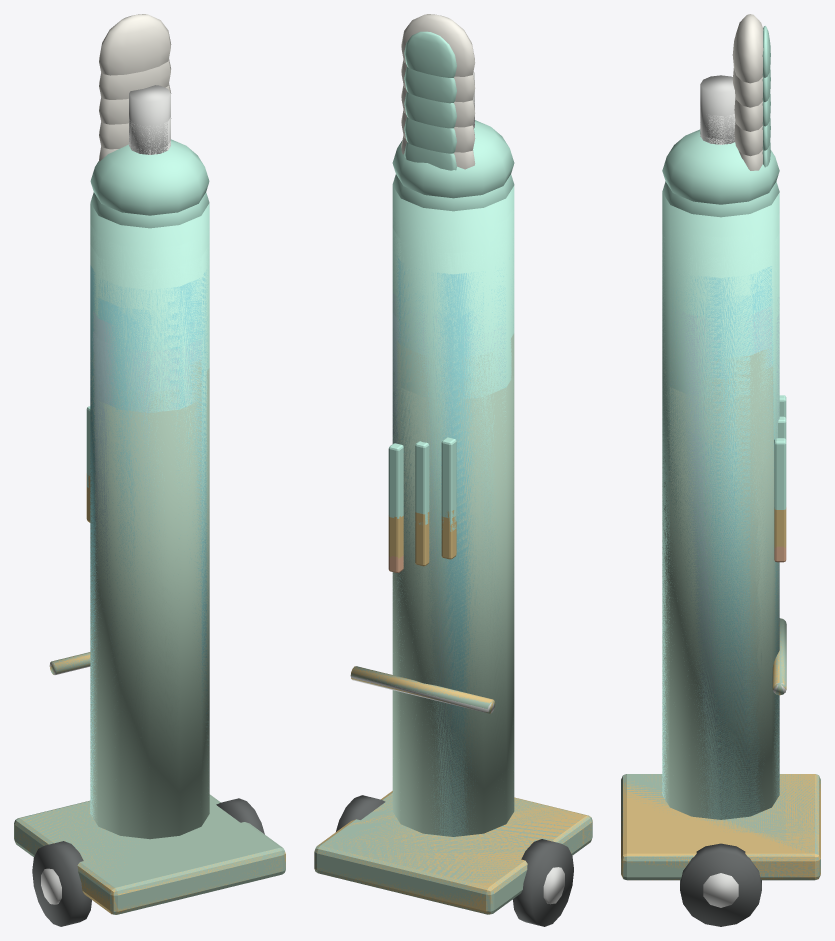
File: Gear09.fbx
3 views of the same model, side by side, from view 1: azimuth 30°, elevation 25°; view 2: azimuth 150°, elevation 25°; view 3: azimuth 270°, elevation 25° (orthographic). The views are drawn at different scales.
Parts seen in each view (by area): view 1: Gear09_V1_Sage, Gear09_V10_Glow, Gear09_V2_Sage, Gear09_V6_Aqua, Gear09_V9_Glow, Gear09_V7_Aqua, Gear09_V8_Glow, Gear09_V4_Blue, Gear09_V1_Tyre, Gear09_V10_Linen, Gear09_V10_Gold, Gear09_V5_Blue (+5 smaller); view 2: Gear09_V1_Sage, Gear09_V10_Glow, Gear09_V2_Sage, Gear09_V10_Gold, Gear09_V7_Aqua, Gear09_V9_Glow, Gear09_V3_Sage, Gear09_V8_Glow, Gear09_V1_Tyre, Gear09_V4_Blue, Gear09_V7_Glow, Gear09_V10_Linen (+9 smaller); view 3: Gear09_V10_Glow, Gear09_V1_Sage, Gear09_V9_Glow, Gear09_V10_Gold, Gear09_V3_Sage, Gear09_V7_Aqua, Gear09_V2_Sage, Gear09_V5_Blue, Gear09_V6_Aqua, Gear09_V8_Glow, Gear09_V4_Blue, Gear09_V1_Tyre (+7 smaller).
Boxes of the visible parts, left/top/right/bottom form: Gear09_V1_Sage: left=14, top=388, right=285, bottom=914; Gear09_V10_Glow: left=86, top=139, right=209, bottom=818; Gear09_V2_Sage: left=91, top=368, right=209, bottom=838; Gear09_V6_Aqua: left=90, top=294, right=208, bottom=813; Gear09_V9_Glow: left=86, top=192, right=209, bottom=732; Gear09_V7_Aqua: left=90, top=265, right=207, bottom=798; Gear09_V8_Glow: left=88, top=244, right=209, bottom=802; Gear09_V4_Blue: left=90, top=331, right=207, bottom=808; Gear09_V1_Tyre: left=32, top=798, right=264, bottom=926; Gear09_V10_Linen: left=99, top=14, right=171, bottom=75; Gear09_V10_Gold: left=14, top=652, right=285, bottom=914; Gear09_V5_Blue: left=90, top=311, right=208, bottom=817; Gear09_V1_Sage: left=314, top=376, right=592, bottom=914; Gear09_V10_Glow: left=388, top=31, right=514, bottom=836; Gear09_V2_Sage: left=392, top=355, right=514, bottom=835; Gear09_V10_Gold: left=314, top=666, right=592, bottom=914; Gear09_V7_Aqua: left=395, top=255, right=513, bottom=836; Gear09_V9_Glow: left=388, top=67, right=514, bottom=834; Gear09_V3_Sage: left=396, top=333, right=514, bottom=836; Gear09_V8_Glow: left=388, top=92, right=513, bottom=834; Gear09_V1_Tyre: left=336, top=795, right=573, bottom=926; Gear09_V4_Blue: left=392, top=313, right=505, bottom=835; Gear09_V7_Glow: left=388, top=117, right=456, bottom=518; Gear09_V10_Linen: left=401, top=14, right=475, bottom=76; Gear09_V10_Glow: left=662, top=26, right=786, bottom=819; Gear09_V1_Sage: left=621, top=383, right=820, bottom=880; Gear09_V9_Glow: left=662, top=68, right=786, bottom=816; Gear09_V10_Gold: left=621, top=625, right=820, bottom=880; Gear09_V3_Sage: left=662, top=340, right=779, bottom=819; Gear09_V7_Aqua: left=662, top=266, right=778, bottom=818; Gear09_V2_Sage: left=662, top=365, right=778, bottom=817; Gear09_V5_Blue: left=662, top=297, right=779, bottom=818; Gear09_V6_Aqua: left=663, top=286, right=779, bottom=818; Gear09_V8_Glow: left=662, top=92, right=786, bottom=815; Gear09_V4_Blue: left=662, top=315, right=779, bottom=818; Gear09_V1_Tyre: left=680, top=843, right=761, bottom=926.
Bounding box in the file's own units: 38.8 × 162 × 34.
